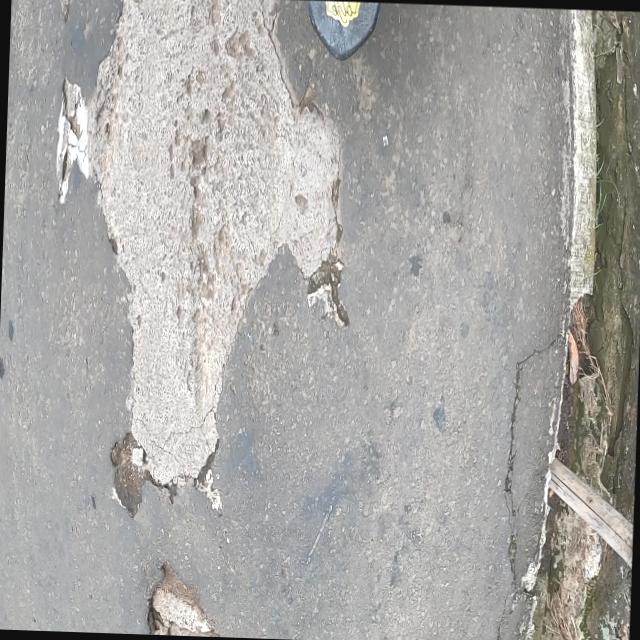Lubang: (110, 431, 176, 516), (148, 561, 218, 636), (307, 254, 349, 325)
